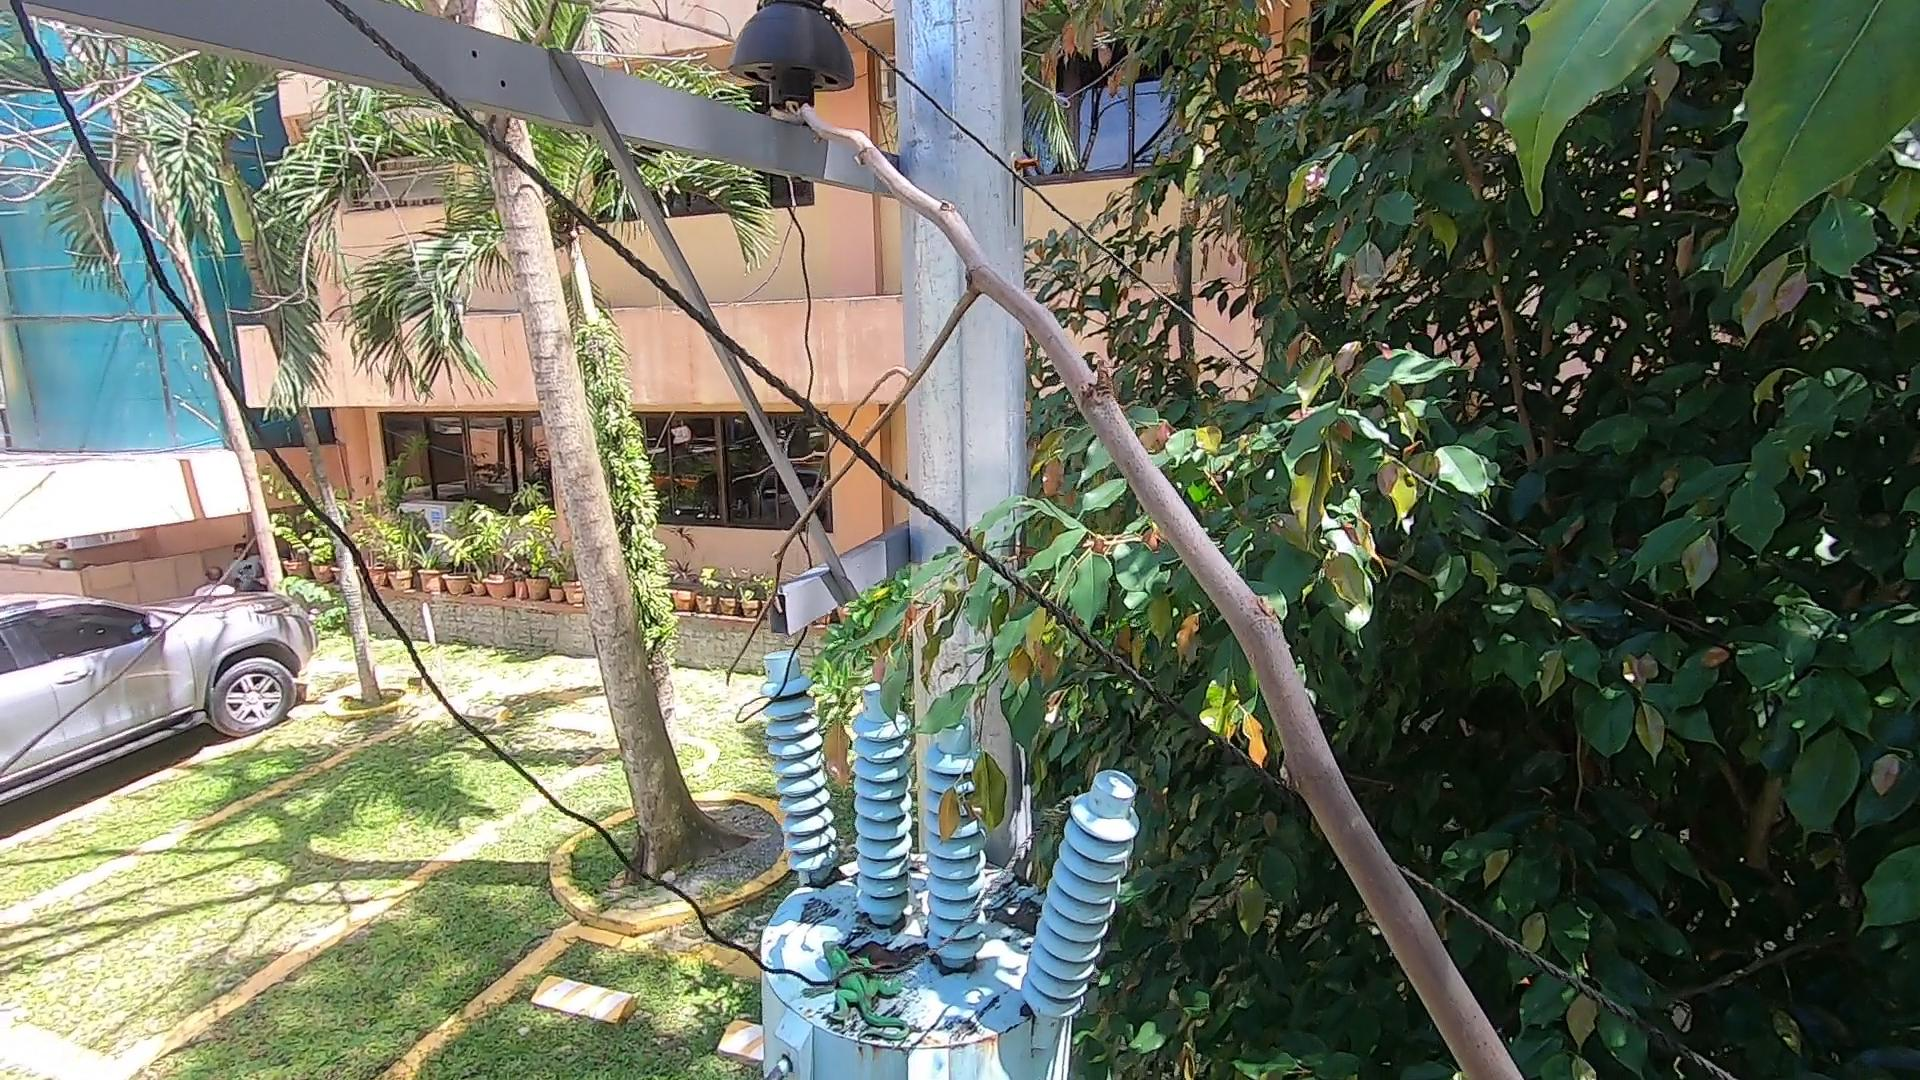branch with leaves: (820, 509, 1064, 837)
leaf: (851, 932, 928, 976), (992, 895, 1054, 936), (803, 862, 849, 893)
tree branch: (754, 90, 1552, 1080)
